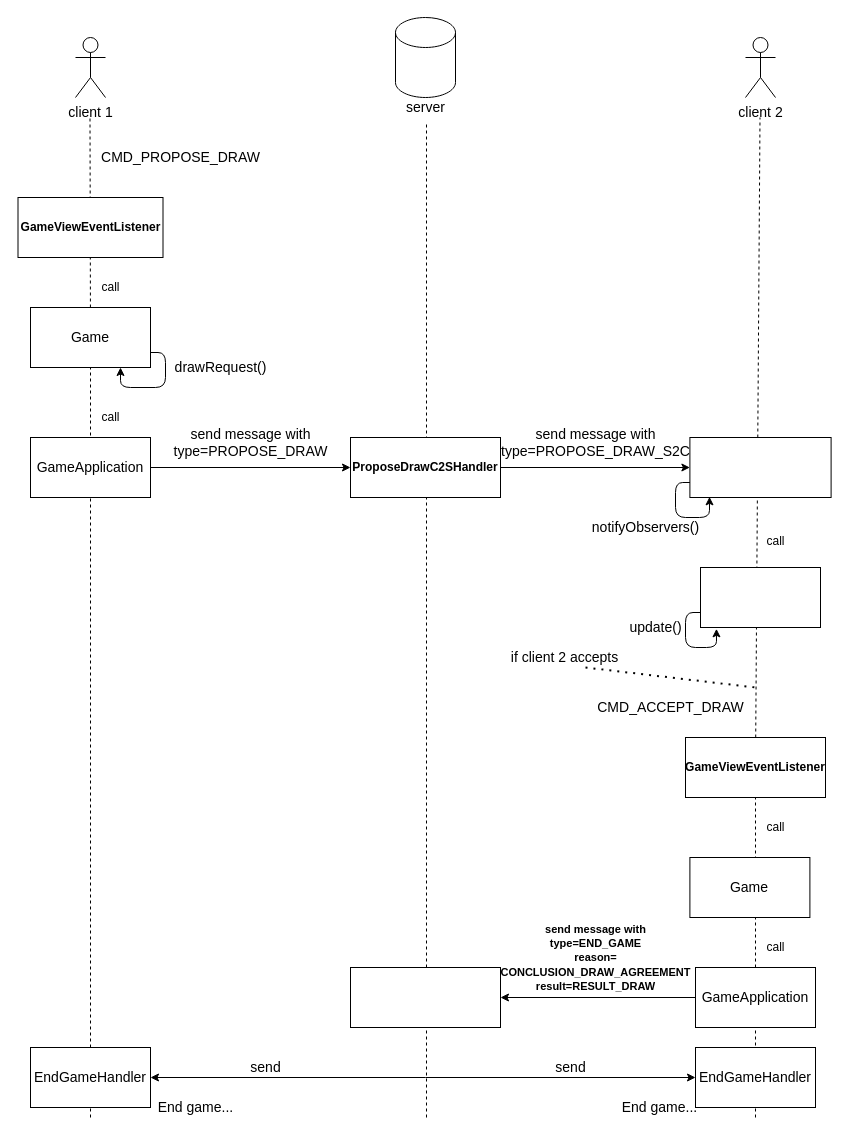
Image size: 849x1136. Some labels were removed from this diagram. Here are the shapes that lost their labels. From the top down, the centre of each, then its label:
At pixel 760 467: "ProposeDrawS2CHandler".
At pixel 760 597: "ChessBoardView".
At pixel 425 997: "EndGameEventHandler".
